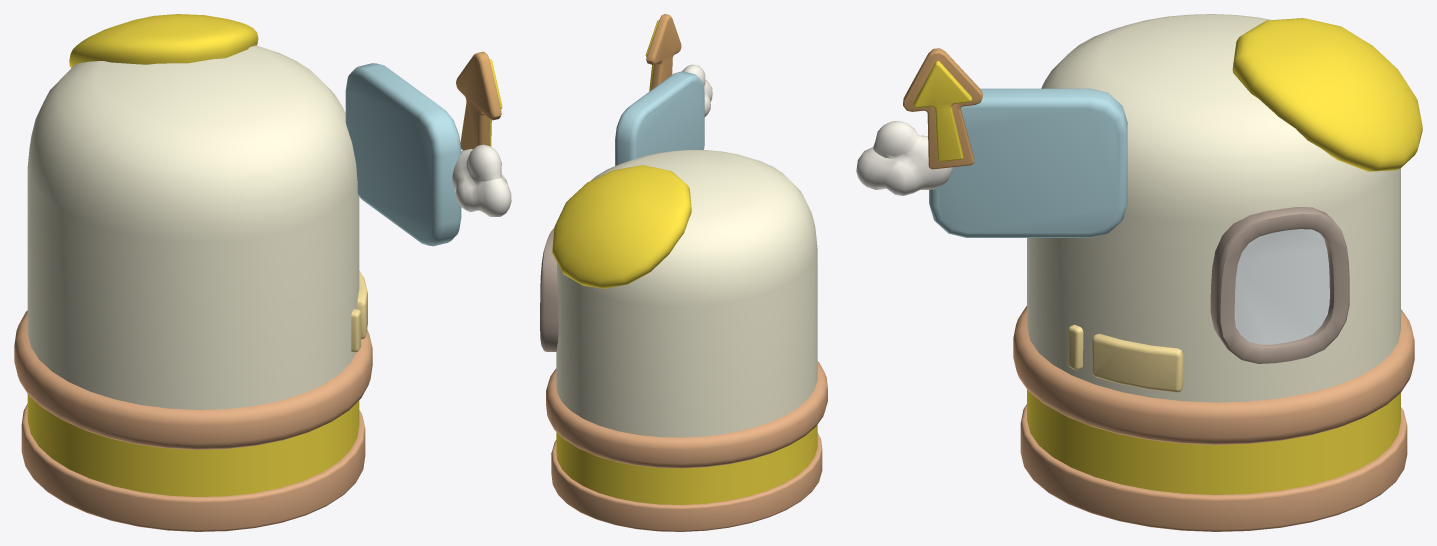
Rendered from house.glb.
3 renders of one model, left to right at view 1: azimuth 30°, elevation 25°; view 2: azimuth 150°, elevation 25°; view 3: azimuth 270°, elevation 25°, orthographic. The views are drawn at different scales.
Parts seen in each view (by area): view 1: MB___胶囊_1, MB___胶囊, 立方体, MB___胶囊_5, Retopo_MeshBoolean_v1, Retopo_Bubble_Cloud_2, 多边形_1; view 2: MB___胶囊_1, Retopo_MeshBoolean_v1, MB___胶囊, MB___胶囊_5, 立方体, Retopo_挤压_1, 多边形_1, Retopo_Bubble_Cloud_2; view 3: MB___胶囊_1, 立方体, Retopo_MeshBoolean_v1, MB___胶囊, MB___胶囊_5, 挤压, Retopo_挤压_1, Retopo_Bubble_Cloud_2, MB___胶囊_3, 多边形_1, 多边形, MB___胶囊_4.
Boxes of the visible parts, x1,y1,x2,y2 form: MB___胶囊_1: [27, 45, 359, 496]; MB___胶囊: [14, 310, 372, 449]; 立方体: [345, 63, 461, 246]; MB___胶囊_5: [21, 404, 365, 531]; Retopo_MeshBoolean_v1: [69, 14, 258, 68]; Retopo_Bubble_Cloud_2: [452, 144, 511, 216]; 多边形_1: [456, 51, 501, 150]; MB___胶囊_1: [556, 150, 817, 504]; Retopo_MeshBoolean_v1: [552, 165, 691, 288]; MB___胶囊: [546, 361, 827, 468]; MB___胶囊_5: [551, 433, 822, 531]; 立方体: [615, 71, 704, 165]; Retopo_挤压_1: [540, 228, 558, 351]; 多边形_1: [646, 14, 681, 89]; Retopo_Bubble_Cloud_2: [682, 64, 712, 116]; MB___胶囊_1: [1027, 14, 1400, 494]; 立方体: [929, 88, 1127, 237]; Retopo_MeshBoolean_v1: [1232, 18, 1422, 171]; MB___胶囊: [1013, 306, 1414, 444]; MB___胶囊_5: [1020, 404, 1407, 531]; 挤压: [1234, 229, 1329, 344]; Retopo_挤压_1: [1210, 207, 1349, 363]; Retopo_Bubble_Cloud_2: [856, 121, 953, 195]; MB___胶囊_3: [1092, 333, 1183, 392]; 多边形_1: [903, 48, 982, 169]; 多边形: [913, 61, 971, 161]; MB___胶囊_4: [1068, 324, 1083, 370].
Bounding box in the file's own units: 0.1818 × 0.2483 × 0.2608.
